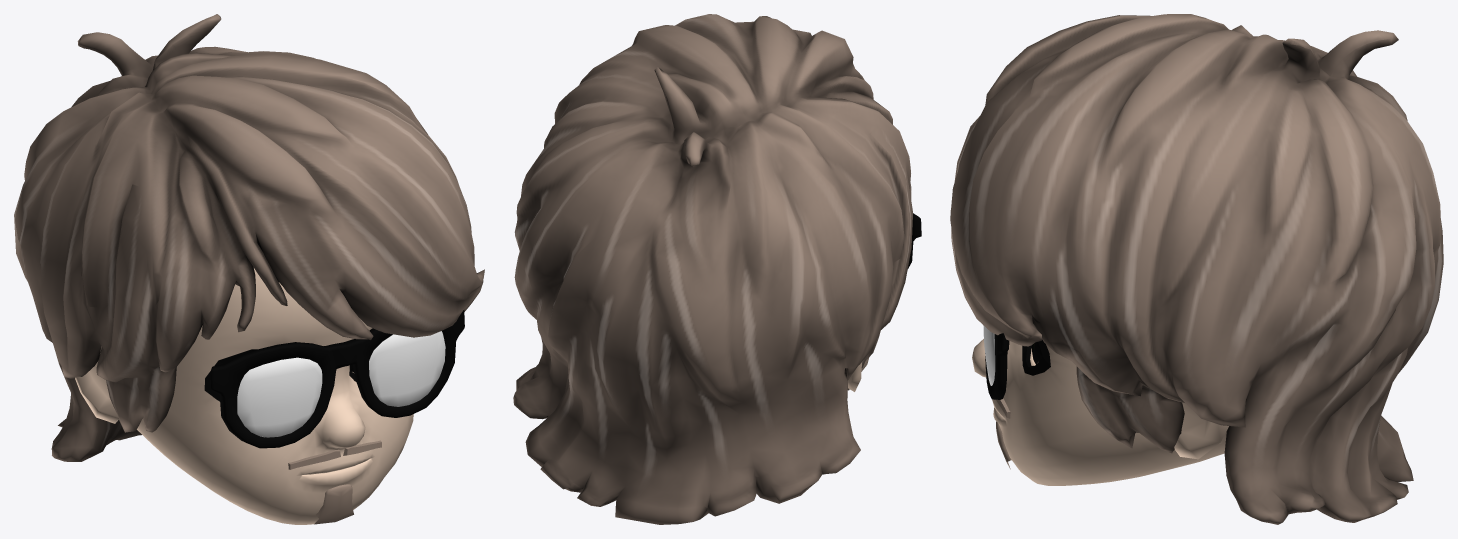
File: memoji.glb
3 renders of one model, left to right at view 1: azimuth 30°, elevation 25°; view 2: azimuth 150°, elevation 25°; view 3: azimuth 270°, elevation 25°, orthographic. The views are drawn at different scales.
Parts seen in each view (by area): view 1: avatarNode__head_components__hair_straight_short_down_shag, avatarNode__head_components__head, avatarNode__head_components__eyewear_emoji__eyewear_emoji_le, avatarNode__head_components__eyewear_emoji__eyewear_emoji_mo, avatarNode__head_components__sans_nom__facialhair_beard_bret, avatarNode__head_components__sans_nom__facialhair_mustache_p; view 2: avatarNode__head_components__hair_straight_short_down_shag; view 3: avatarNode__head_components__hair_straight_short_down_shag, avatarNode__head_components__head, avatarNode__head_components__eyewear_emoji__eyewear_emoji_mo, avatarNode__head_components__eyesAndTongue__eyelashes.
Boxes of the visible parts, <box> form: avatarNode__head_components__hair_straight_short_down_shag: <box>14,14,484,461</box>; avatarNode__head_components__head: <box>75,268,413,524</box>; avatarNode__head_components__eyewear_emoji__eyewear_emoji_le: <box>237,331,445,437</box>; avatarNode__head_components__eyewear_emoji__eyewear_emoji_mo: <box>210,310,464,448</box>; avatarNode__head_components__sans_nom__facialhair_beard_bret: <box>314,484,353,524</box>; avatarNode__head_components__sans_nom__facialhair_mustache_p: <box>288,440,381,469</box>; avatarNode__head_components__hair_straight_short_down_shag: <box>513,14,912,524</box>; avatarNode__head_components__hair_straight_short_down_shag: <box>950,14,1443,524</box>; avatarNode__head_components__head: <box>972,339,1228,485</box>; avatarNode__head_components__eyewear_emoji__eyewear_emoji_mo: <box>985,333,1009,399</box>; avatarNode__head_components__eyesAndTongue__eyelashes: <box>1022,322,1050,375</box>.
Bounding box in the file's own units: 25.5 × 28.73 × 28.25.
12 materials, 7 textured.
